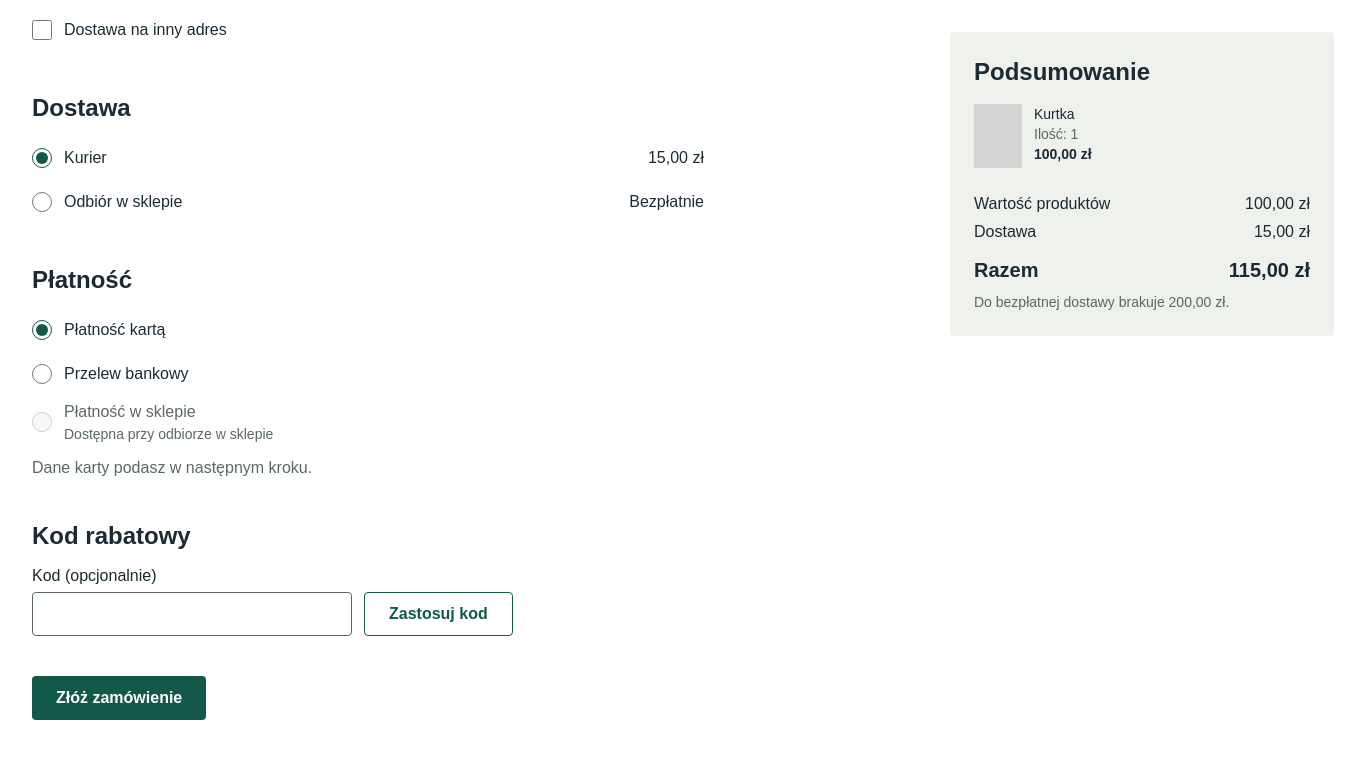
Test: a refused order › keeps other field errors next to errors.cart
(page scrolled)
Click the button "Złóż zamówienie" at (119, 698), box [32,676,206,720]
(page scrolled)
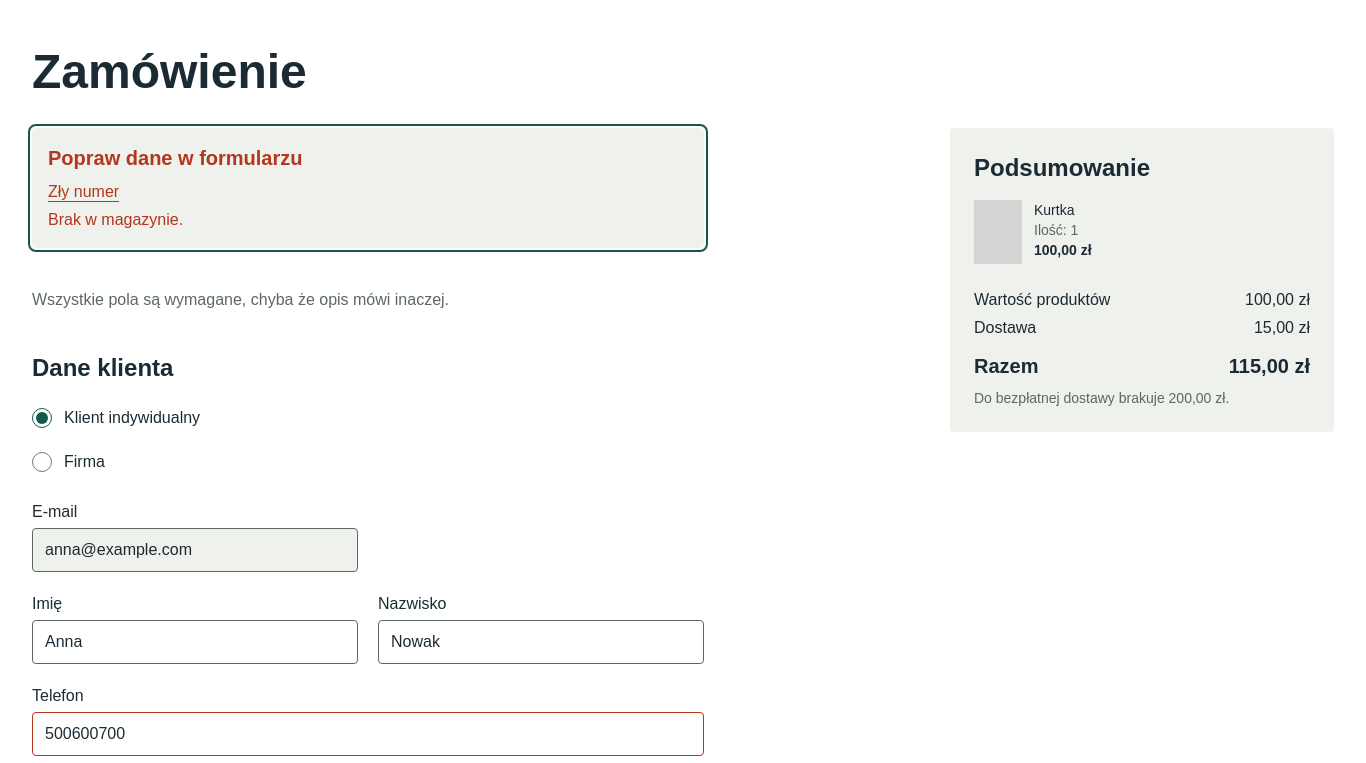
Expected: the text "Brak w magazynie." is shown, [48,211,183,228]
